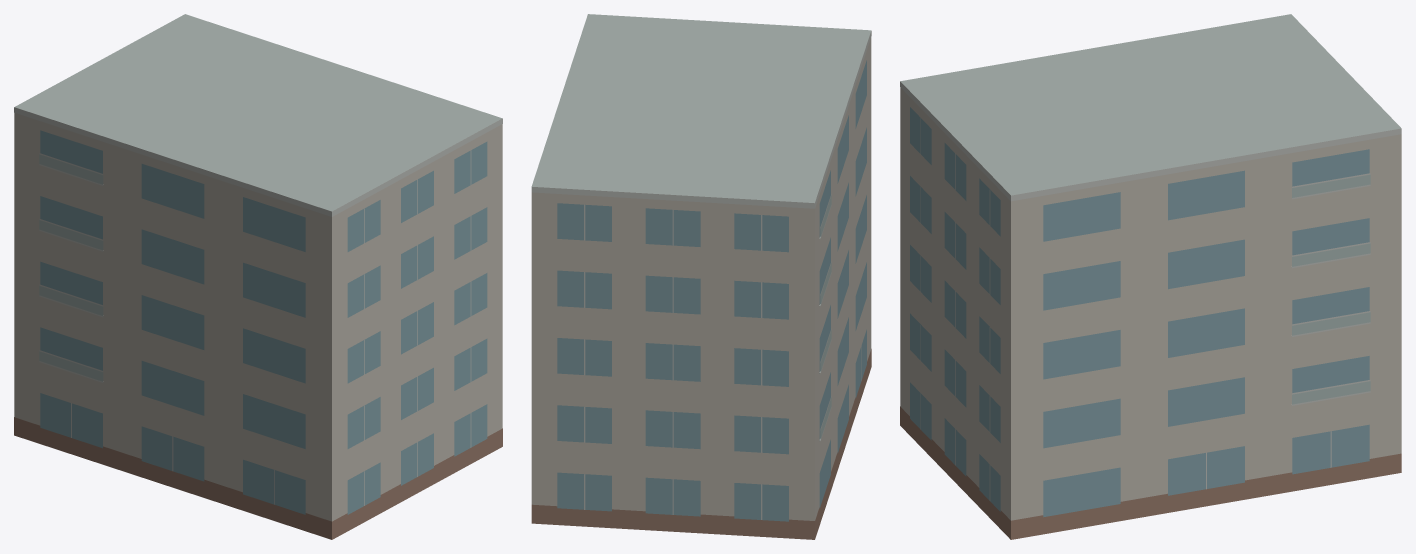
Rendered from survey-upis-32731622.glb.
The picture shows the model from 3 angles, left to right: view 1: azimuth 30°, elevation 25°; view 2: azimuth 150°, elevation 25°; view 3: azimuth 270°, elevation 25°; orthographic projection. The views are drawn at different scales.
Parts seen in each view (by area): view 1: survey-upis-32731622.tmp; view 2: survey-upis-32731622.tmp; view 3: survey-upis-32731622.tmp.
Part boxes in pixels (x1=…): survey-upis-32731622.tmp: x1=14, y1=14, x2=502, y2=539; survey-upis-32731622.tmp: x1=531, y1=14, x2=871, y2=539; survey-upis-32731622.tmp: x1=900, y1=14, x2=1401, y2=539.
Bounding box in the file's own units: 16.47 × 14.55 × 19.22.
